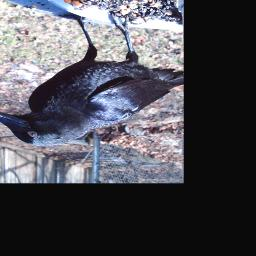Crow: (0, 11, 184, 146)
